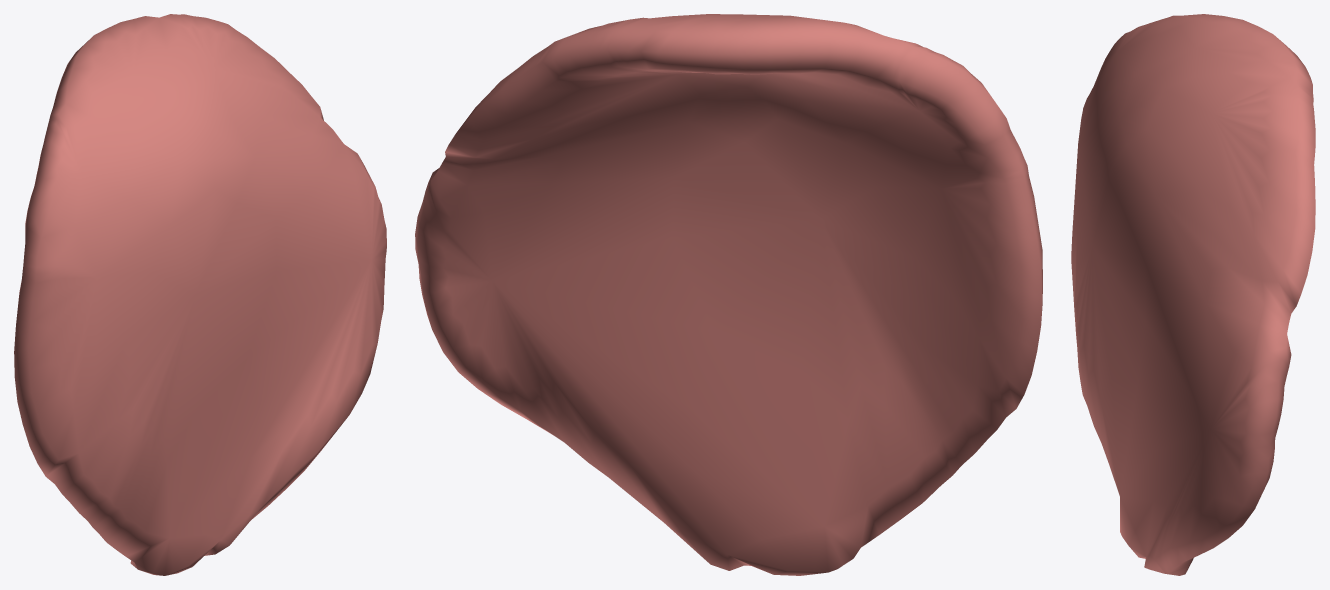
3 renders of one model, left to right at view 1: azimuth 30°, elevation 25°; view 2: azimuth 150°, elevation 25°; view 3: azimuth 270°, elevation 25°, orthographic. The views are drawn at different scales.
Visible parts, largest first — view 1: ZA_65bdebeecbe362b5; view 2: ZA_65bdebeecbe362b5; view 3: ZA_65bdebeecbe362b5.
Part boxes in pixels (x1,y1,x2,y2): ZA_65bdebeecbe362b5: (14, 14, 386, 575); ZA_65bdebeecbe362b5: (415, 14, 1042, 575); ZA_65bdebeecbe362b5: (1071, 14, 1315, 575).
Size of the model in its own units: 0.00545 by 0.00583 by 0.00253.
